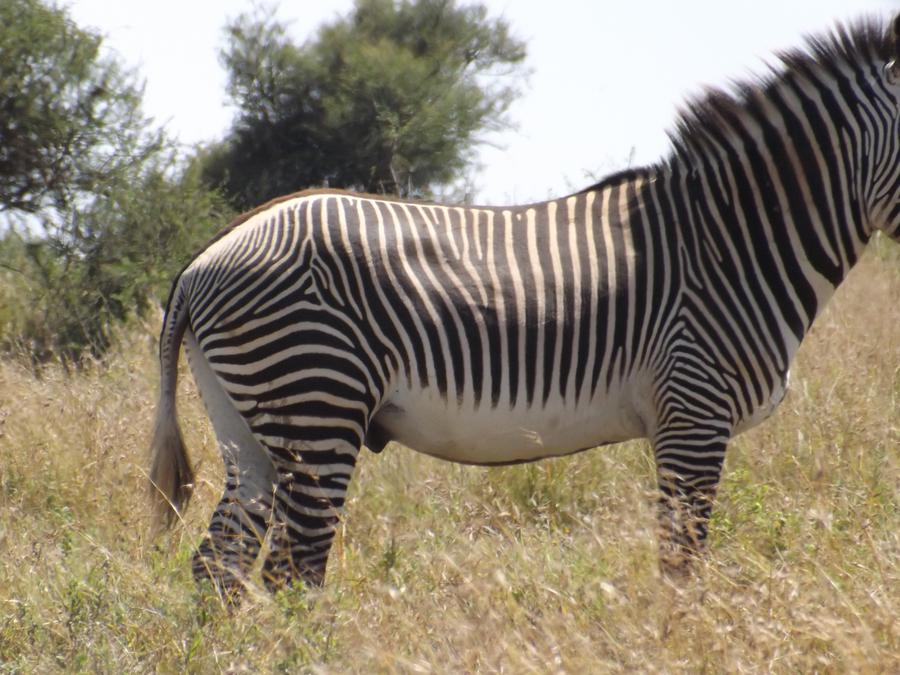zebra_grevys: (135, 157, 743, 441)
